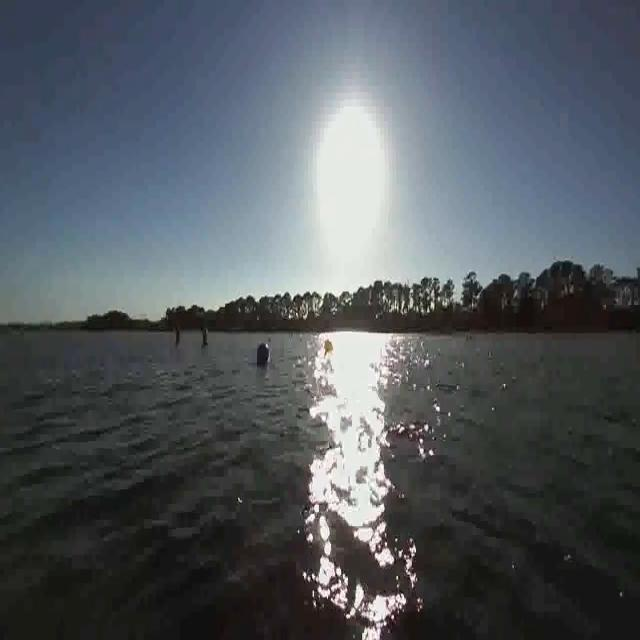blue-buoy: (258, 342, 271, 367)
green-column-buoy: (200, 316, 209, 350)
red-column-buoy: (173, 317, 181, 349)
yellow-buoy: (326, 340, 336, 355)
